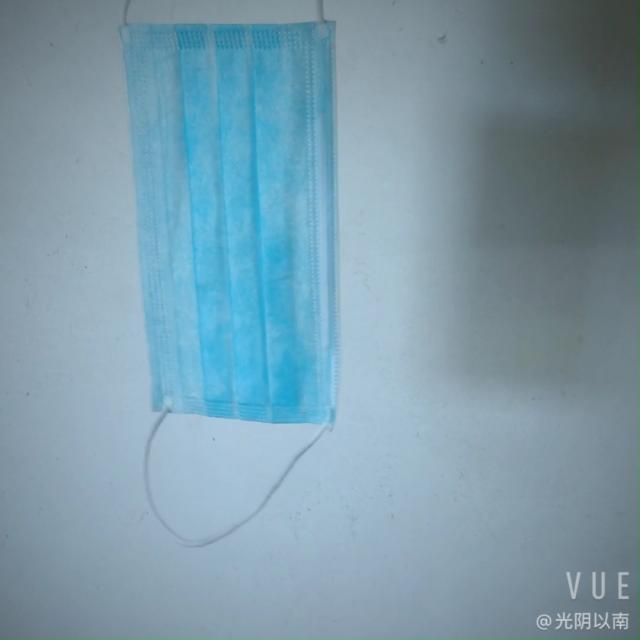face mask: (113, 14, 348, 440)
